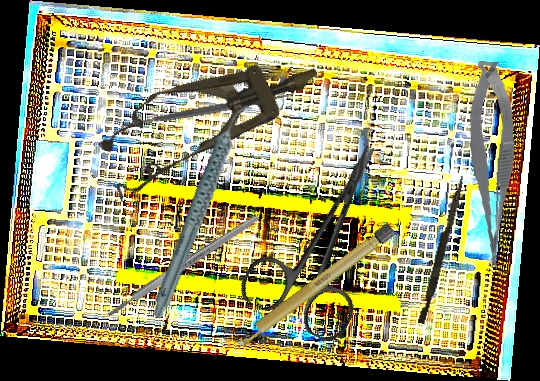Handpiece: (112, 101, 291, 321)
Iris Scissors: (235, 122, 425, 348)
Micro Scissor: (457, 60, 523, 270)
Pusher: (417, 173, 466, 326)
Scalpel Handle: (232, 221, 397, 351), (105, 213, 261, 319)
Spatula Surgical: (116, 85, 297, 137)
Speculum: (87, 32, 334, 202)
